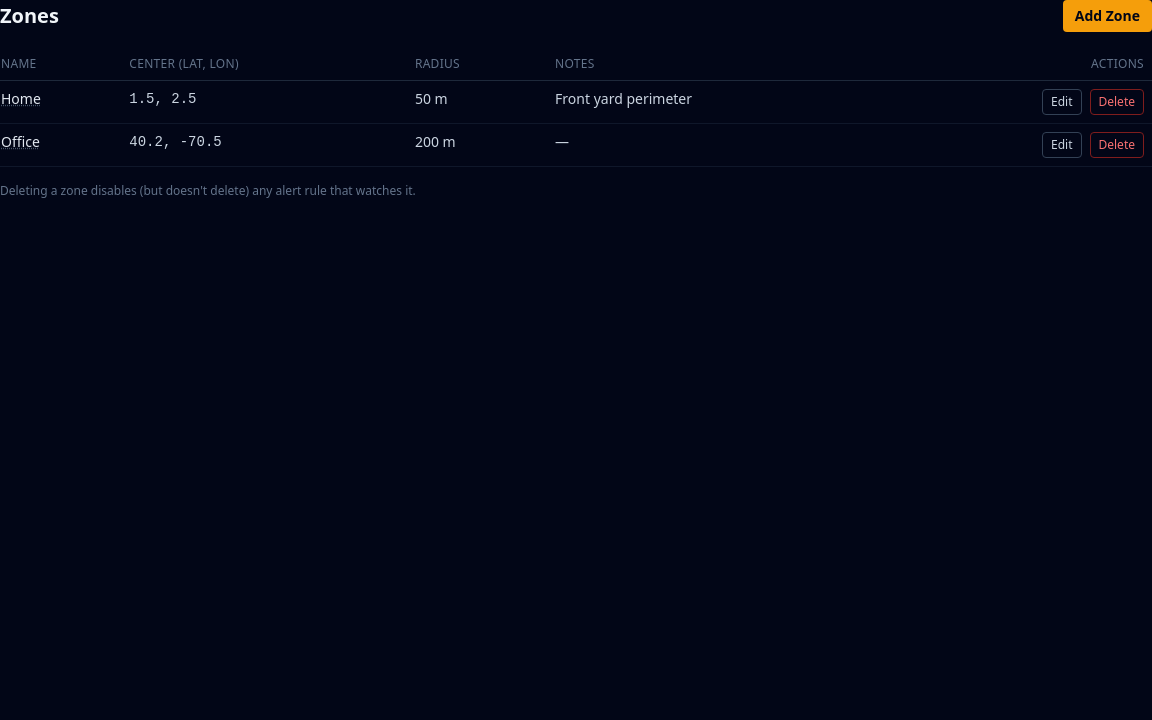
Test: an out-of-range latitude shows a validation error and does not POST
Expected: the row with test id "zone-row-zone-1" is shown, [0,80,1151,124]
Click the button "Add Zone". click: x=1107, y=16
box: [1063,0,1151,32]
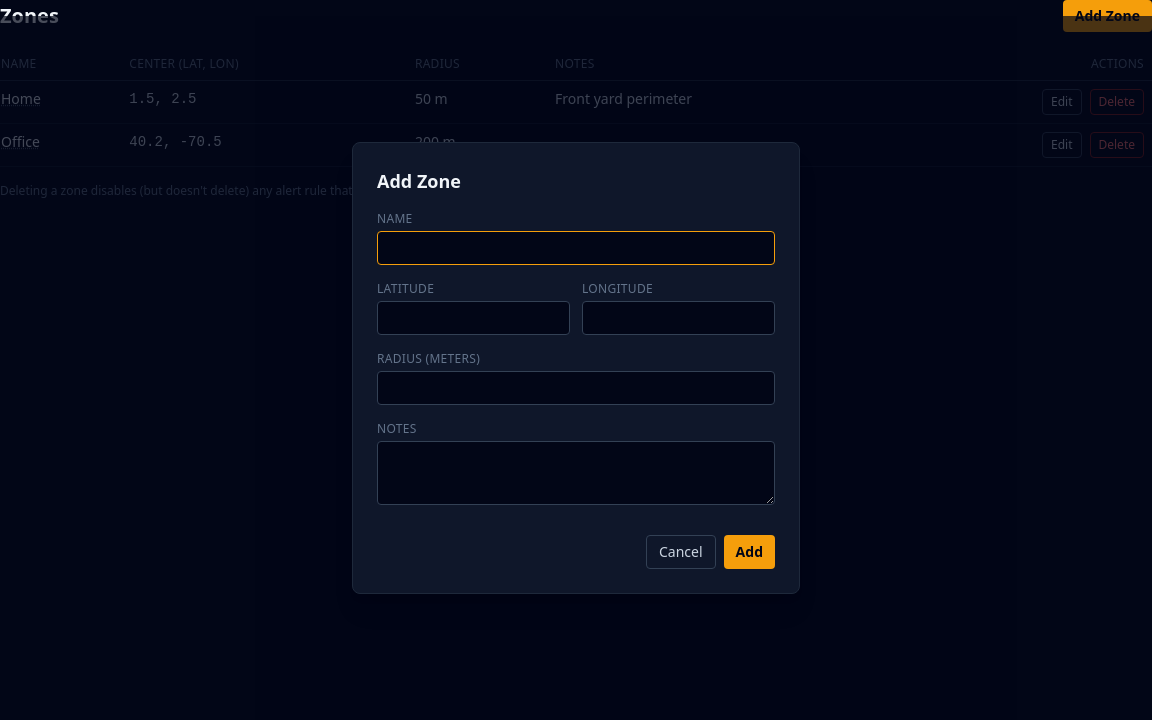
Expected: the heading "Add Zone" is shown, [377,169,461,193]
Type "Bad Zone" into the field labelled "Name". click: x=576, y=248
box: [377,231,775,265]
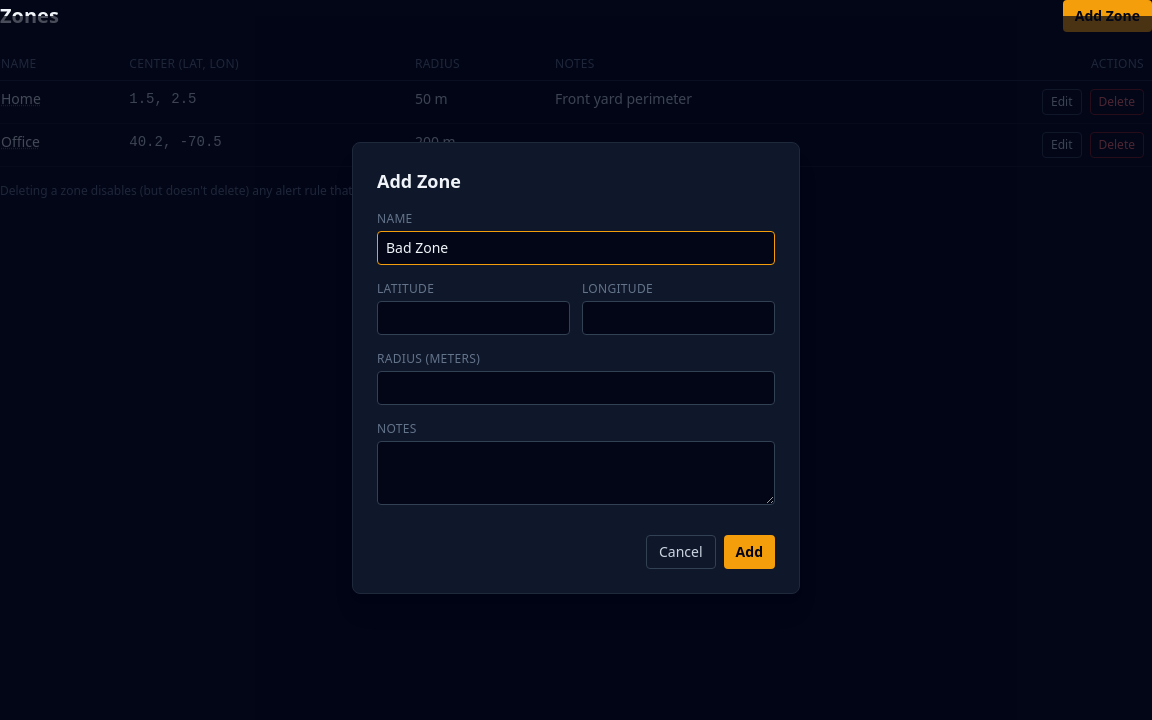
Type "200" into the number field labelled "Latitude". click: x=474, y=318
box: [377,301,570,335]
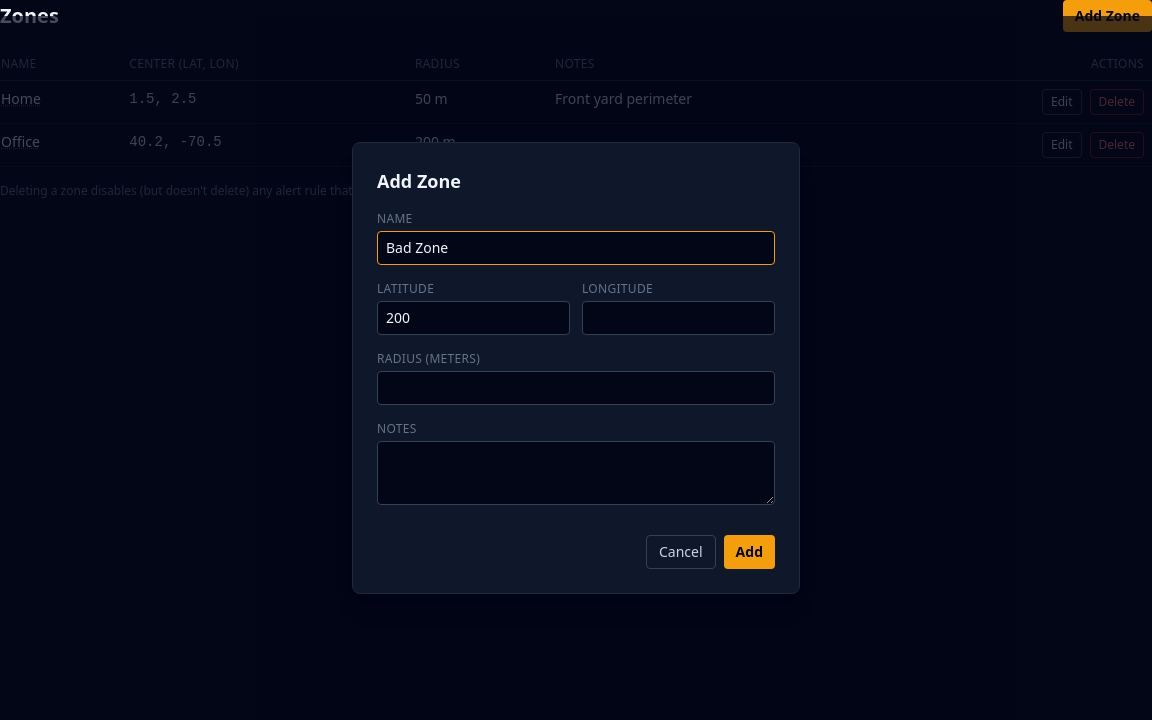
Type "10" into the number field labelled "Longitude". click: x=678, y=318
box: [582,301,775,335]
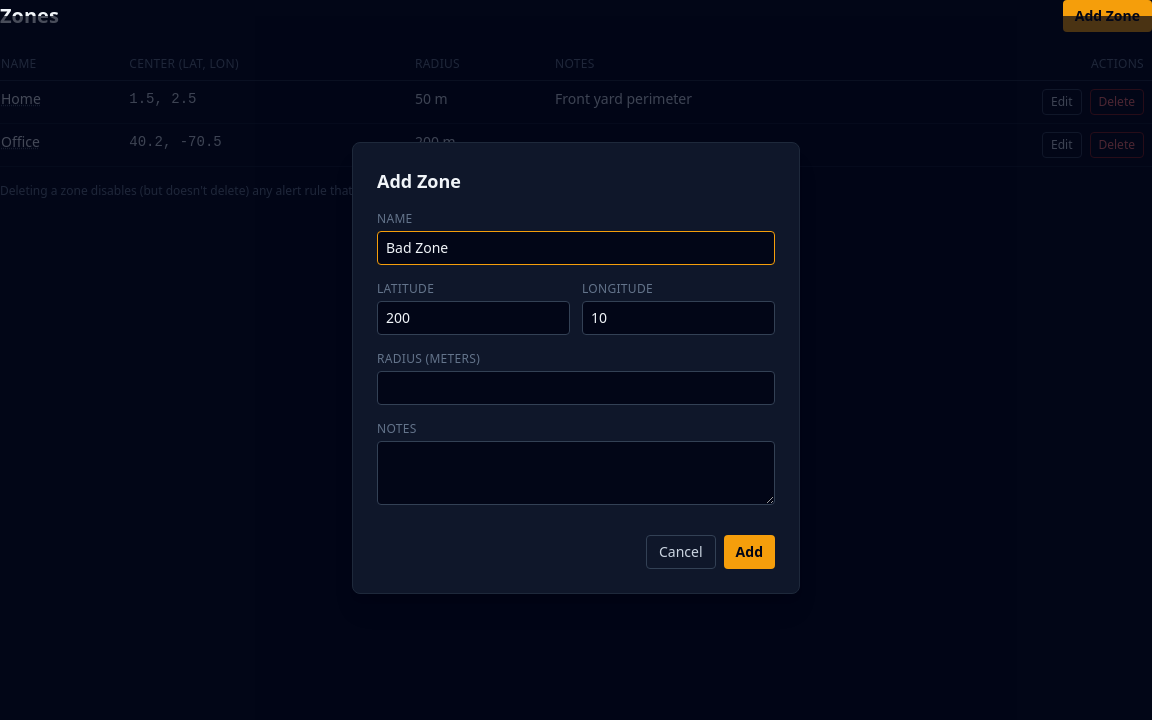
Type "50" into the number field labelled "Radius (meters)". click: x=576, y=388
box: [377,371,775,405]
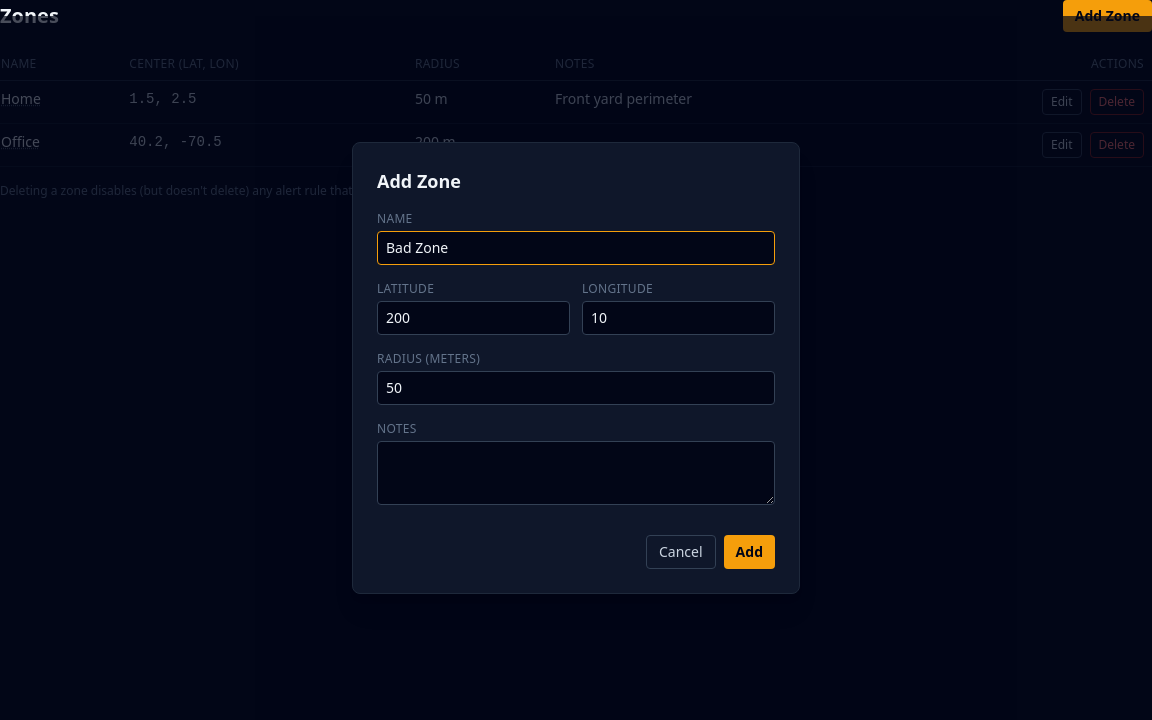
Click the button "Add". click: x=749, y=552
box: [724,535,775,569]
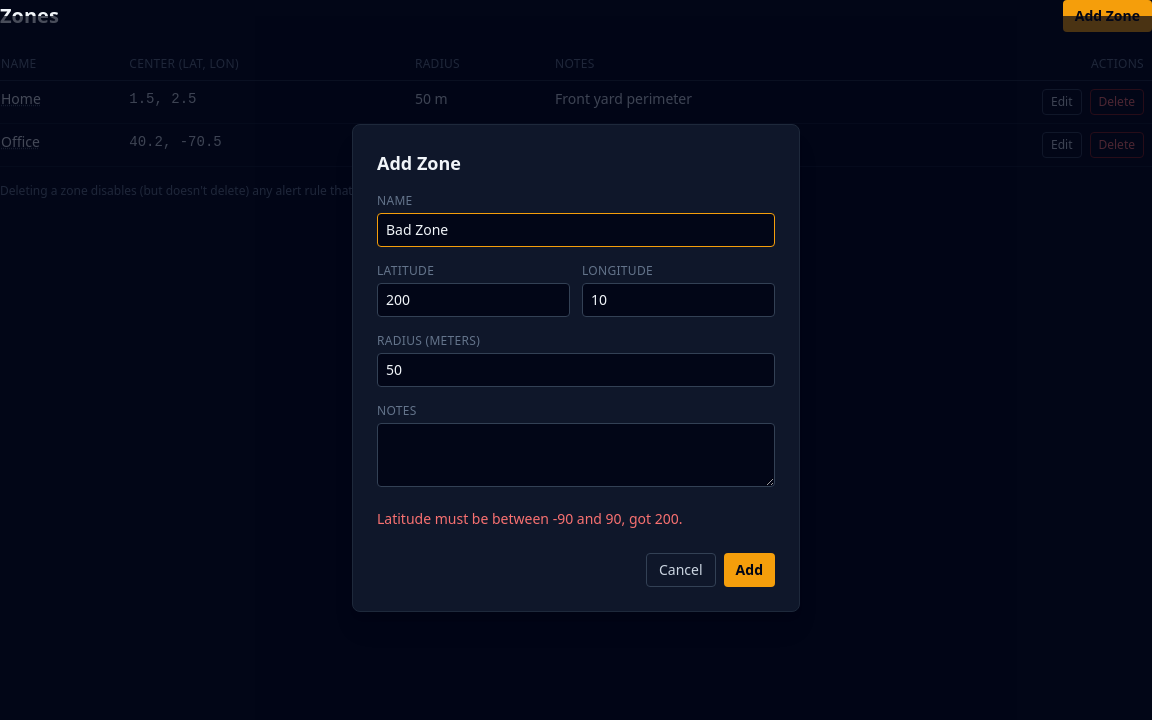
Expected: the message shows "Latitude", [377,509,682,528]
